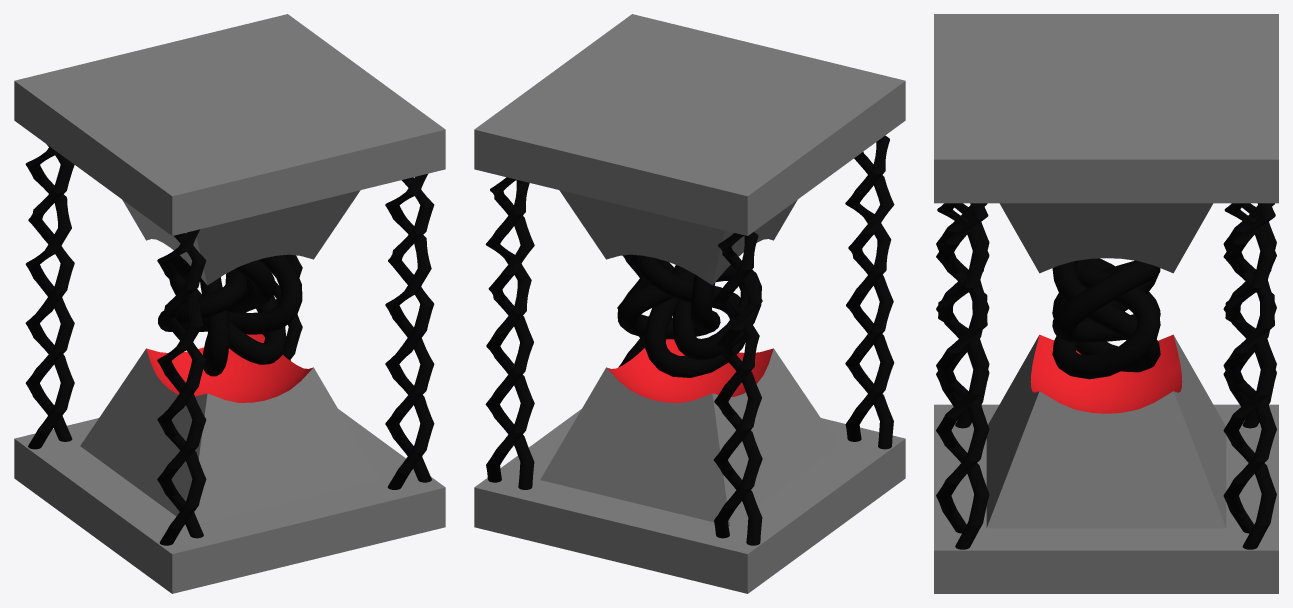
File: 異星熔爐.fbx
3 renders of one model, left to right at view 1: azimuth 30°, elevation 25°; view 2: azimuth 150°, elevation 25°; view 3: azimuth 270°, elevation 25°, orthographic. The views are drawn at different scales.
Visible parts, largest first — view 1: 熔爐頂端, 熔爐底座, 熔爐底端, 特異熔爐核心, 螺旋003, 螺旋001, 熔爐上方, 螺旋, 螺旋002; view 2: 熔爐頂端, 熔爐底座, 熔爐底端, 特異熔爐核心, 熔爐上方, 螺旋, 螺旋002, 螺旋003, 螺旋001; view 3: 熔爐頂端, 熔爐底座, 熔爐底端, 特異熔爐核心, 熔爐上方, 螺旋001, 螺旋002, 螺旋003, 螺旋.
Boxes of the visible parts, bbox=[...] form: 熔爐頂端: bbox=[14, 14, 445, 235]; 熔爐底座: bbox=[80, 334, 379, 523]; 熔爐底端: bbox=[14, 409, 445, 593]; 特異熔爐核心: bbox=[158, 255, 302, 376]; 螺旋003: bbox=[157, 229, 206, 545]; 螺旋001: bbox=[385, 174, 434, 489]; 熔爐上方: bbox=[122, 190, 360, 285]; 螺旋: bbox=[25, 144, 74, 449]; 螺旋002: bbox=[262, 254, 302, 360]; 熔爐頂端: bbox=[474, 14, 905, 235]; 熔爐底座: bbox=[540, 339, 839, 526]; 熔爐底端: bbox=[474, 409, 905, 593]; 特異熔爐核心: bbox=[617, 255, 761, 377]; 熔爐上方: bbox=[559, 190, 797, 285]; 螺旋: bbox=[713, 232, 762, 545]; 螺旋002: bbox=[485, 177, 534, 489]; 螺旋003: bbox=[845, 135, 894, 449]; 螺旋001: bbox=[617, 254, 652, 367]; 熔爐頂端: bbox=[934, 14, 1278, 203]; 熔爐底座: bbox=[986, 334, 1226, 528]; 熔爐底端: bbox=[934, 404, 1278, 593]; 特異熔爐核心: bbox=[1052, 258, 1160, 379]; 熔爐上方: bbox=[999, 203, 1213, 273]; 螺旋001: bbox=[936, 203, 989, 549]; 螺旋002: bbox=[1223, 203, 1276, 549]; 螺旋003: bbox=[936, 203, 989, 428]; 螺旋: bbox=[1223, 203, 1276, 428].
Size of the model in its own units: 36 by 50 by 36.
1 material, 1 textured.
